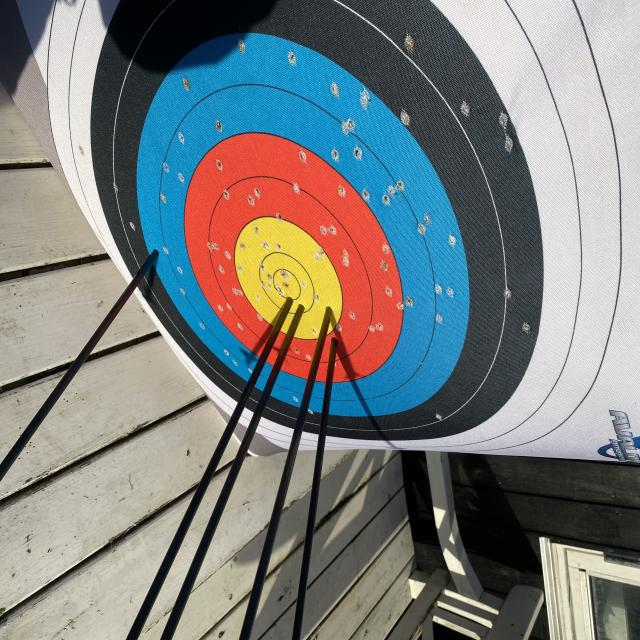Arrow_Blue: (146, 238, 166, 273)
Arrow_Red: (324, 329, 352, 358)
Arrow_Yellow: (320, 292, 335, 332), (295, 284, 307, 329), (283, 291, 296, 317)
